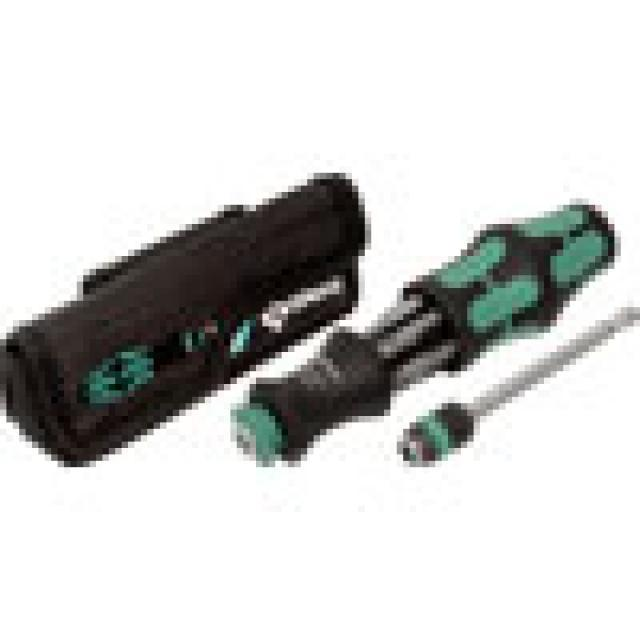drill: (213, 194, 630, 484)
screwdriver: (396, 301, 640, 481)
